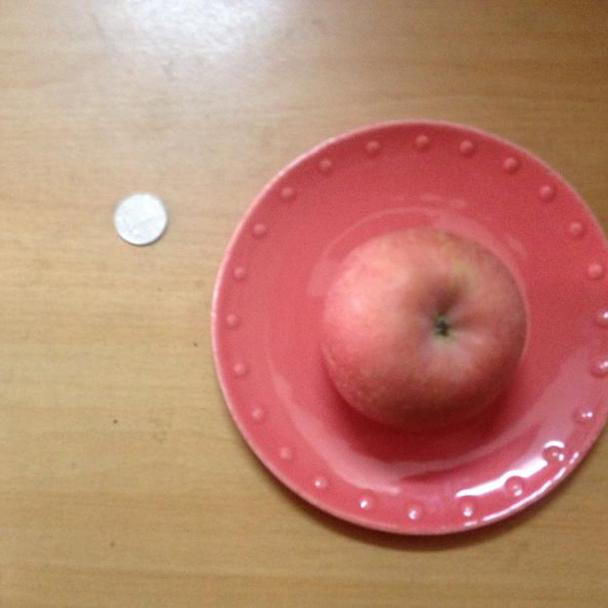apple: (318, 229, 529, 432)
